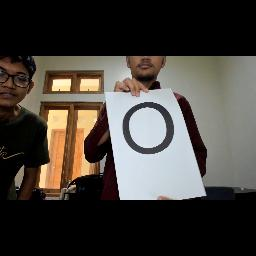o: (118, 96, 180, 160)
